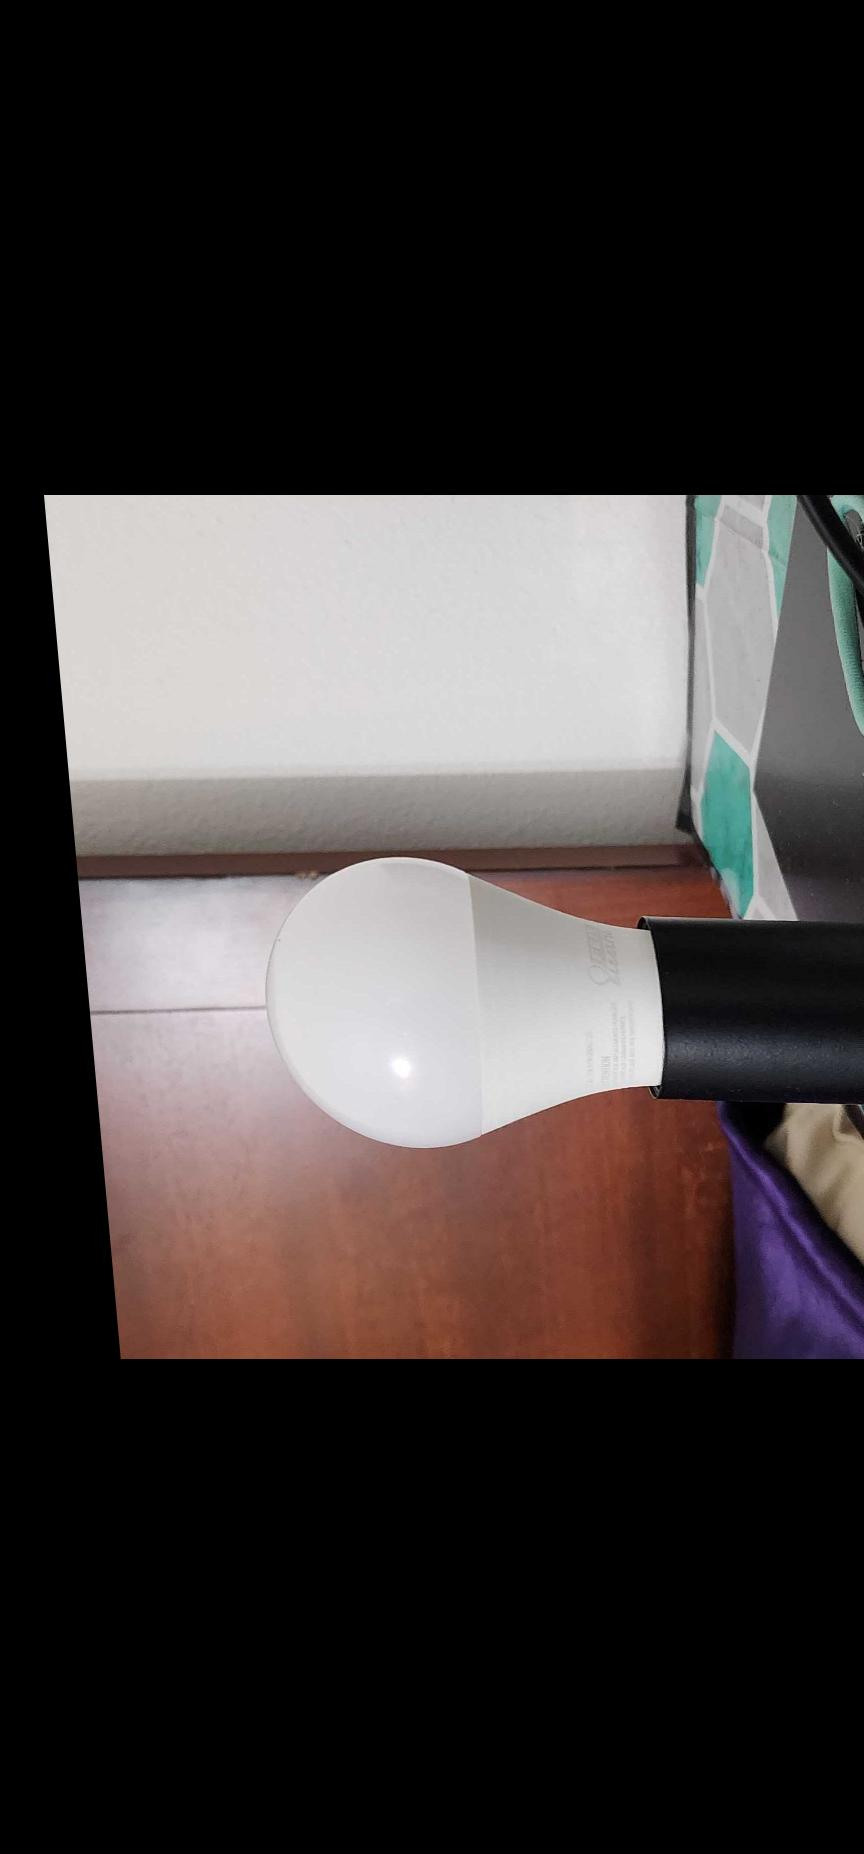Fan: (234, 857, 864, 1150)
